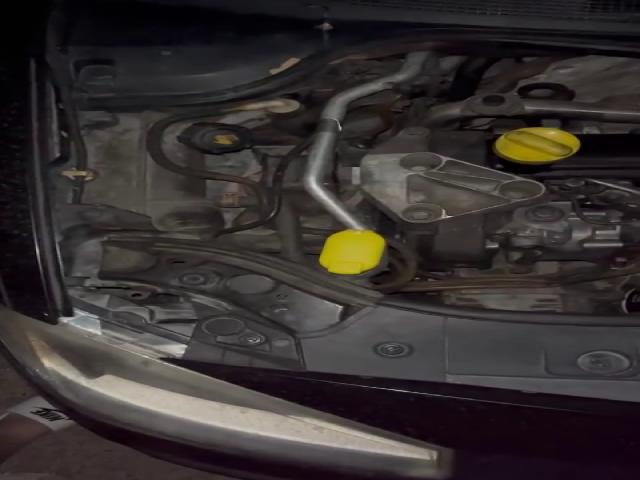antifreeze_tank: (80, 112, 226, 233), (163, 116, 254, 170)
